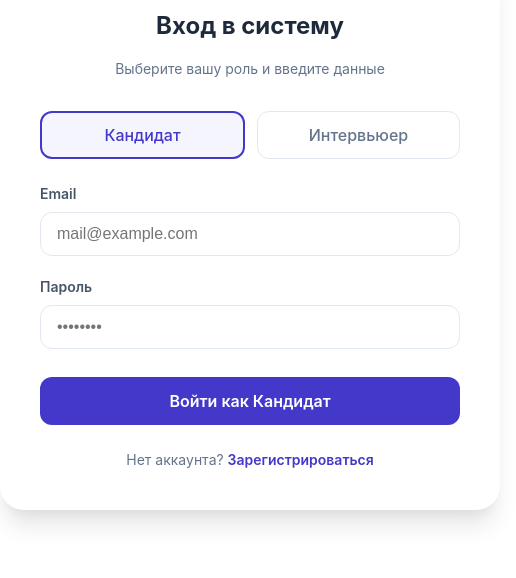
Test: LoginForm component › shows error when server error
The width and height of the screenshot is (516, 578).
Type "test@example.com" into the field with placeholder "mail@example.com". click: (250, 234)
box: [40,212,460,256]
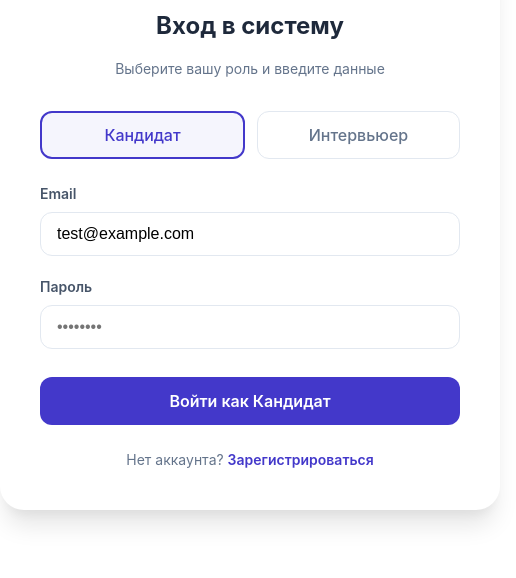
Type "password" into the password field with placeholder "••••••••". click: (250, 327)
box: [40,305,460,349]
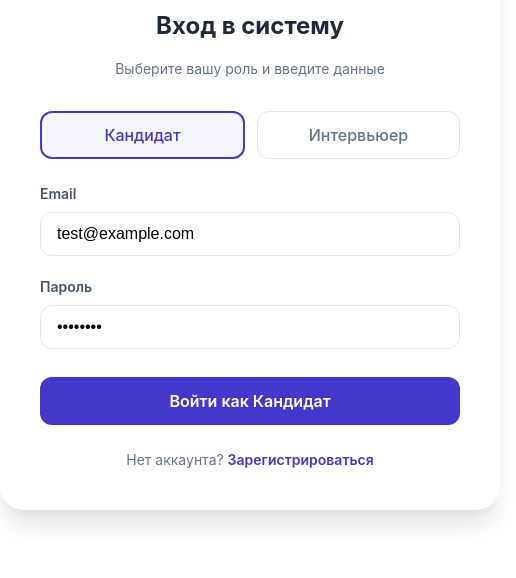
Click the button "Войти как Кандидат". click: click(250, 401)
box: [40,377,460,425]
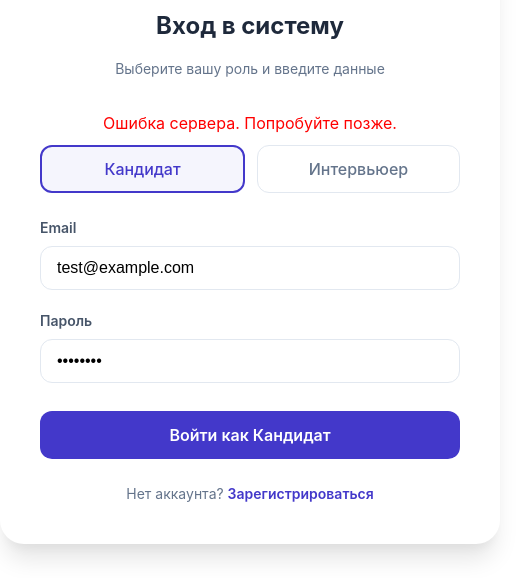
Expected: the text "Ошибка сервера. Попробуйте позже." is shown, [103,113,397,133]
